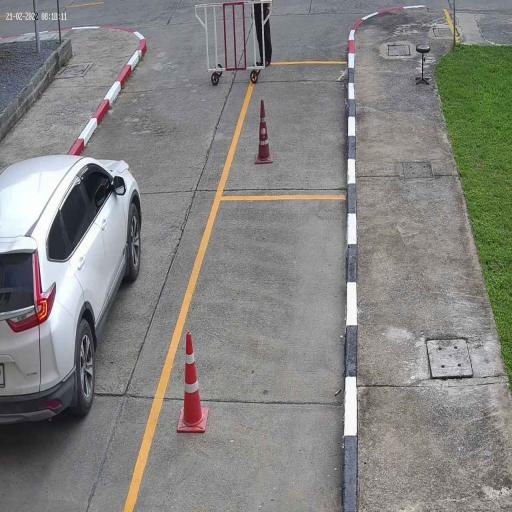car: (0, 154, 143, 427)
